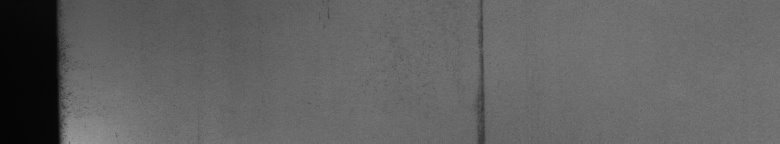hd: (471, 4, 492, 136)
